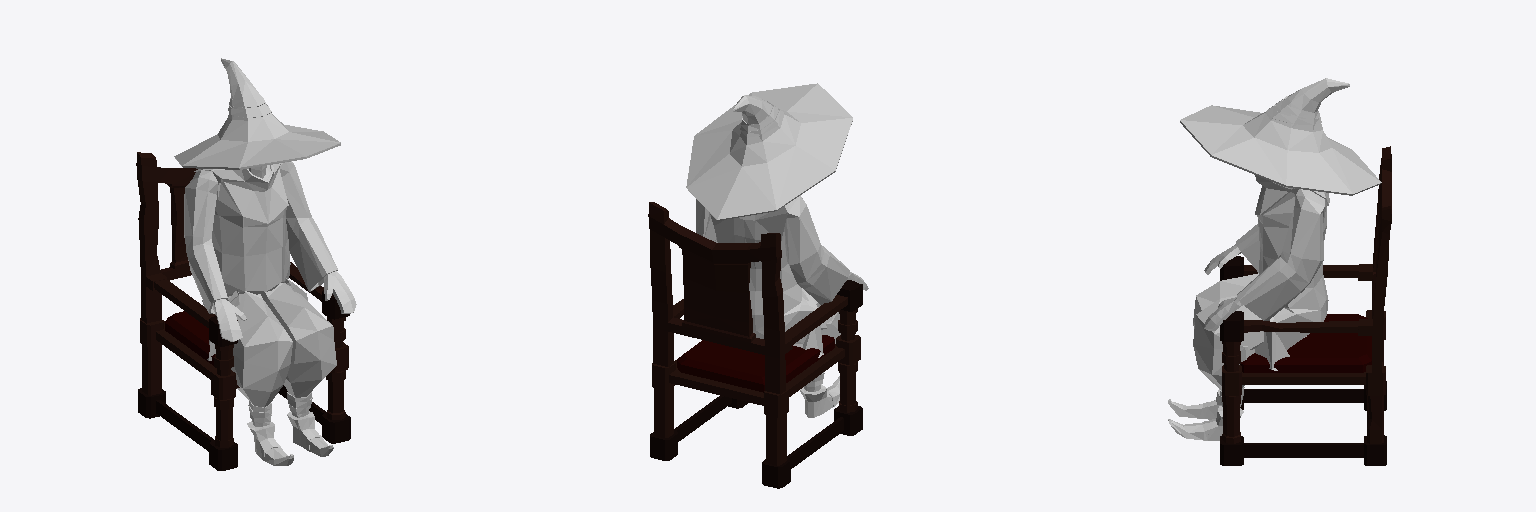
File: WizardSitting.obj
The picture shows the model from 3 angles: view 1: azimuth 30°, elevation 25°; view 2: azimuth 150°, elevation 25°; view 3: azimuth 270°, elevation 25°; orthographic projection.
Visible parts, largest first — view 1: Main_Mesh, Chair; view 2: Chair, Main_Mesh; view 3: Main_Mesh, Chair.
Boxes of the visible parts, x1=… form: Main_Mesh: x1=174, y1=58, x2=356, y2=465; Chair: x1=136, y1=152, x2=350, y2=470; Chair: x1=648, y1=202, x2=862, y2=488; Main_Mesh: x1=686, y1=83, x2=868, y2=417; Main_Mesh: x1=1168, y1=78, x2=1381, y2=440; Chair: x1=1220, y1=146, x2=1391, y2=465.
Bounding box in the file's own units: 0.6694 × 1.61 × 0.9156.